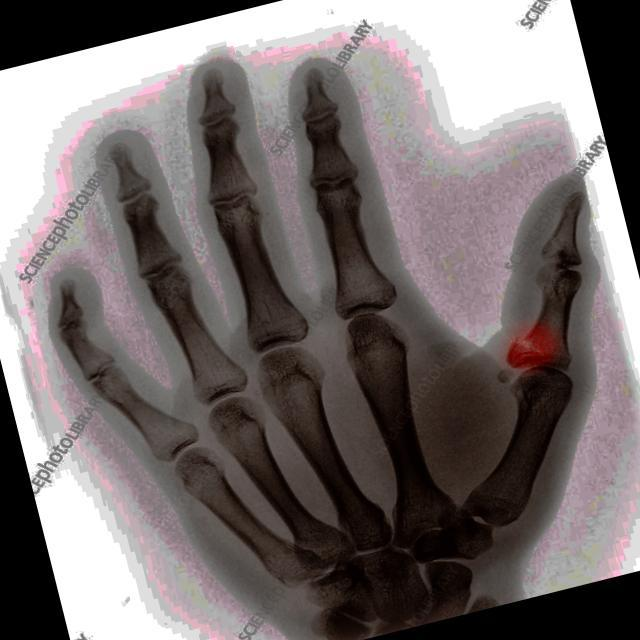Avlusion Fracture: (487, 346, 544, 389)
